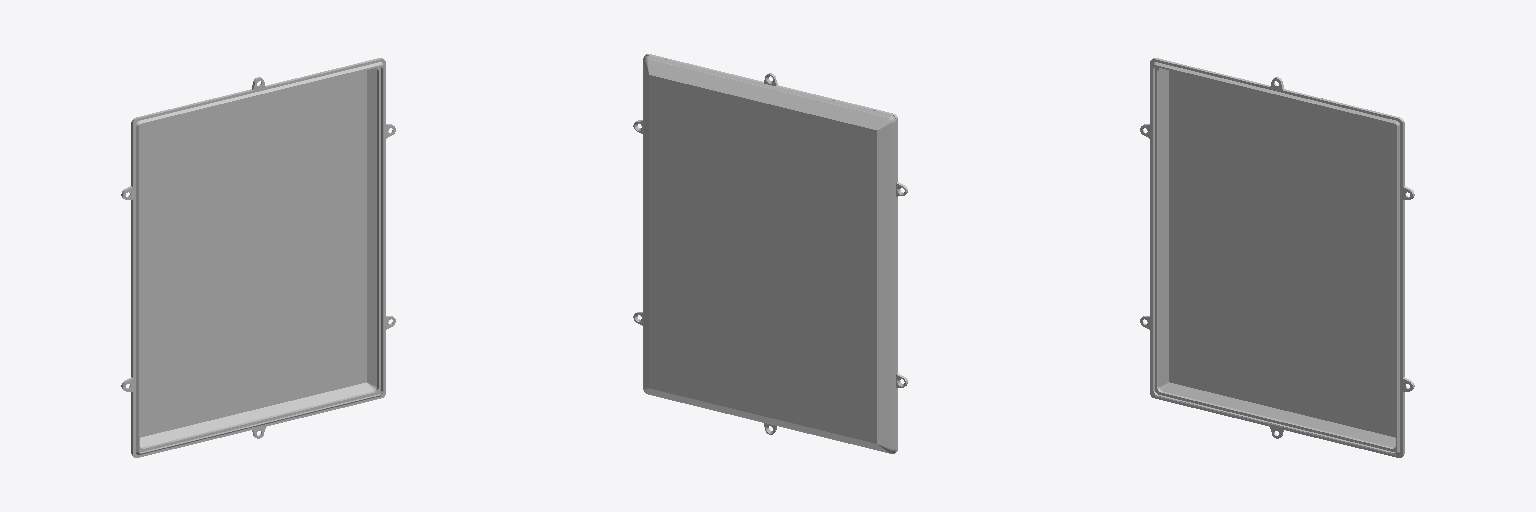
Rendered from Tampa.obj.
3 renders of one model, left to right at view 1: azimuth 30°, elevation 25°; view 2: azimuth 150°, elevation 25°; view 3: azimuth 330°, elevation 25°, orthographic.
Bounding box in the file's own units: 191 × 241 × 11.5.